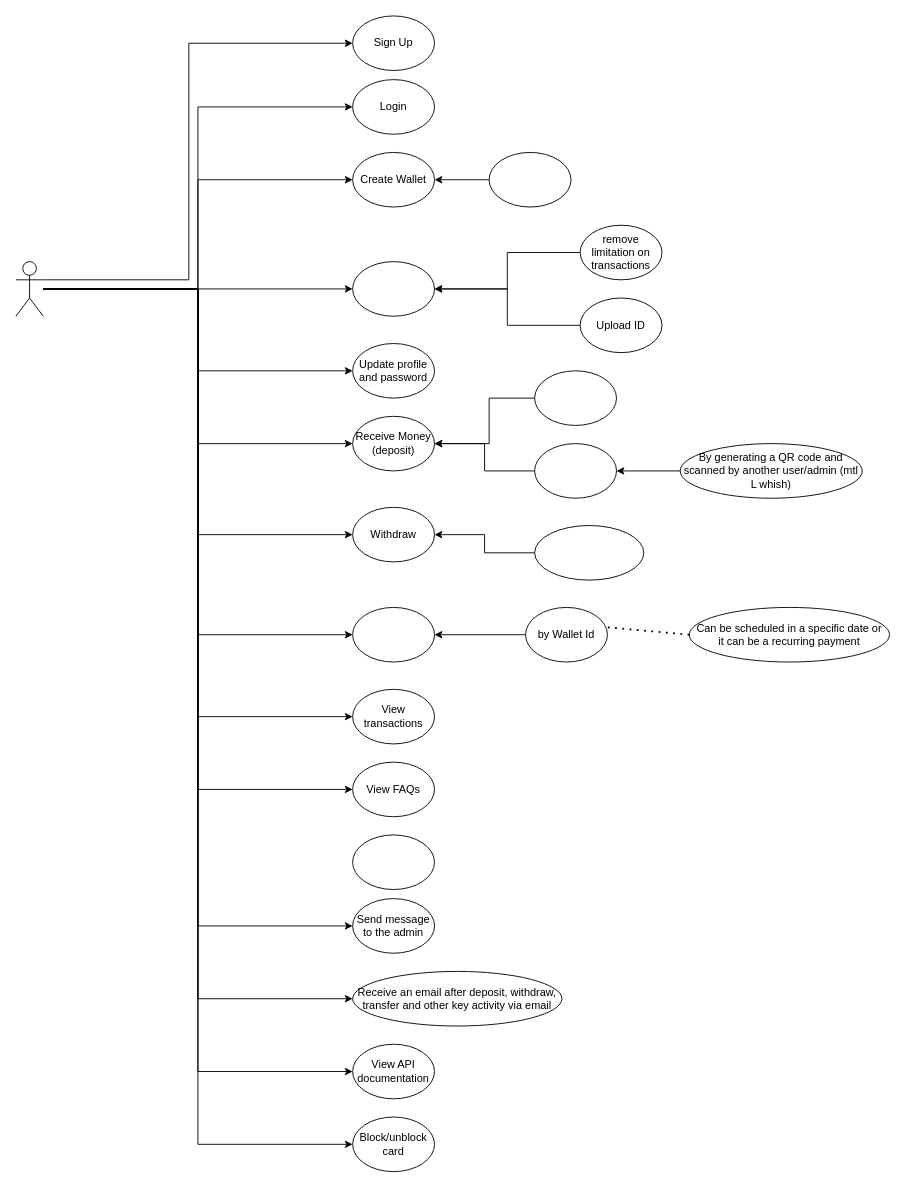
Some shapes in this 905 by 1188 pixel diagram are drawn without their labels. Here are the shapes that lost their labels. From the top down, the centre of each, then its label:
the point at 529,179: Create Card
the point at 29,288: User
the point at 393,288: Verify Account
the point at 575,397: by credit card
the point at 575,470: by another user/or by admin
the point at 589,552: have external bank account/card
the point at 393,634: Send Money to another user
the point at 393,862: View Guide
